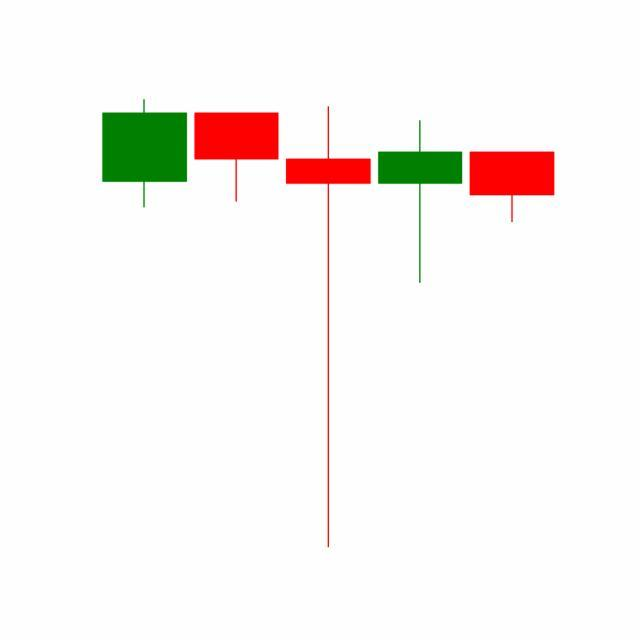Spinning Top: (374, 118, 468, 285)
